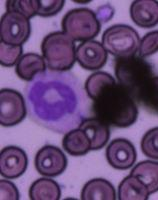N: (24, 69, 90, 134)
